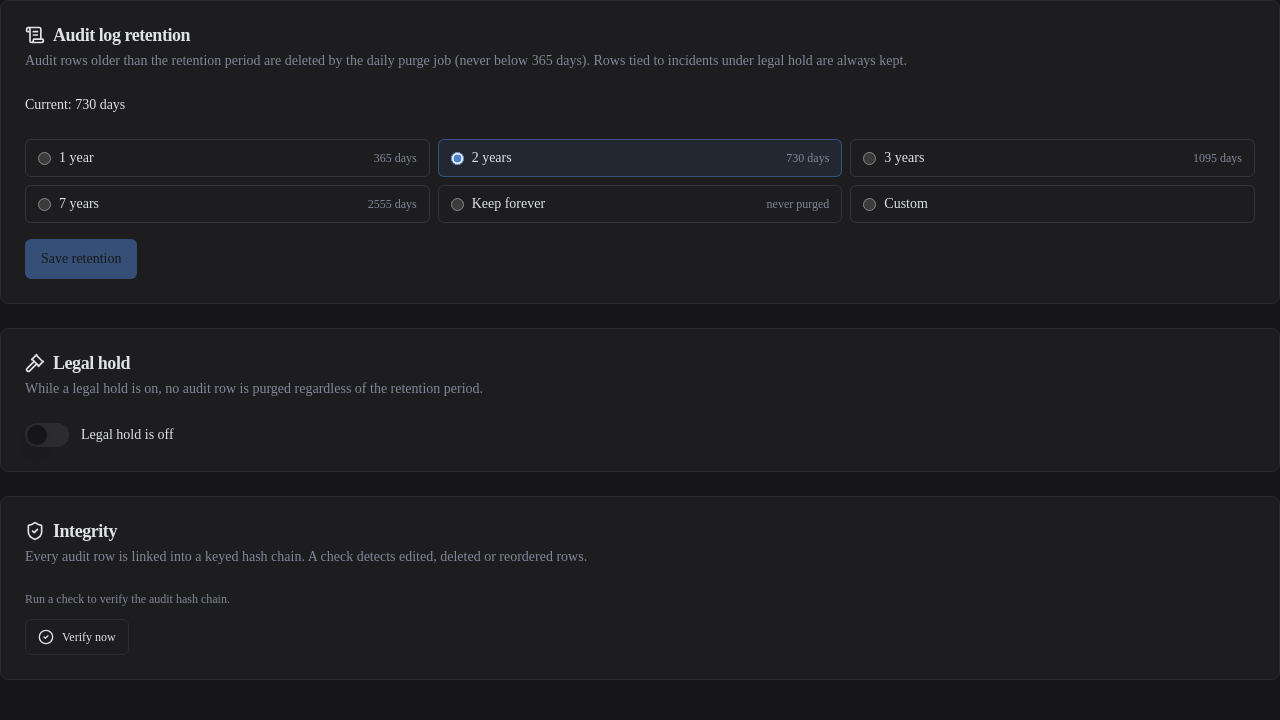
Scenario: AuditRetentionTab: retention › shortening shows the would_purge count and resends with confirm after the typed confirmation
This screenshot has width=1280, height=720.
Expected: the heading "Audit log retention" is shown, [25,25,190,45]
Expected: the text with test id "current-retention" reads "730 days", [75,97,125,112]
Click the radio button labelled "1 year 365 days" at coordinates (44, 158), box [38,152,51,164]
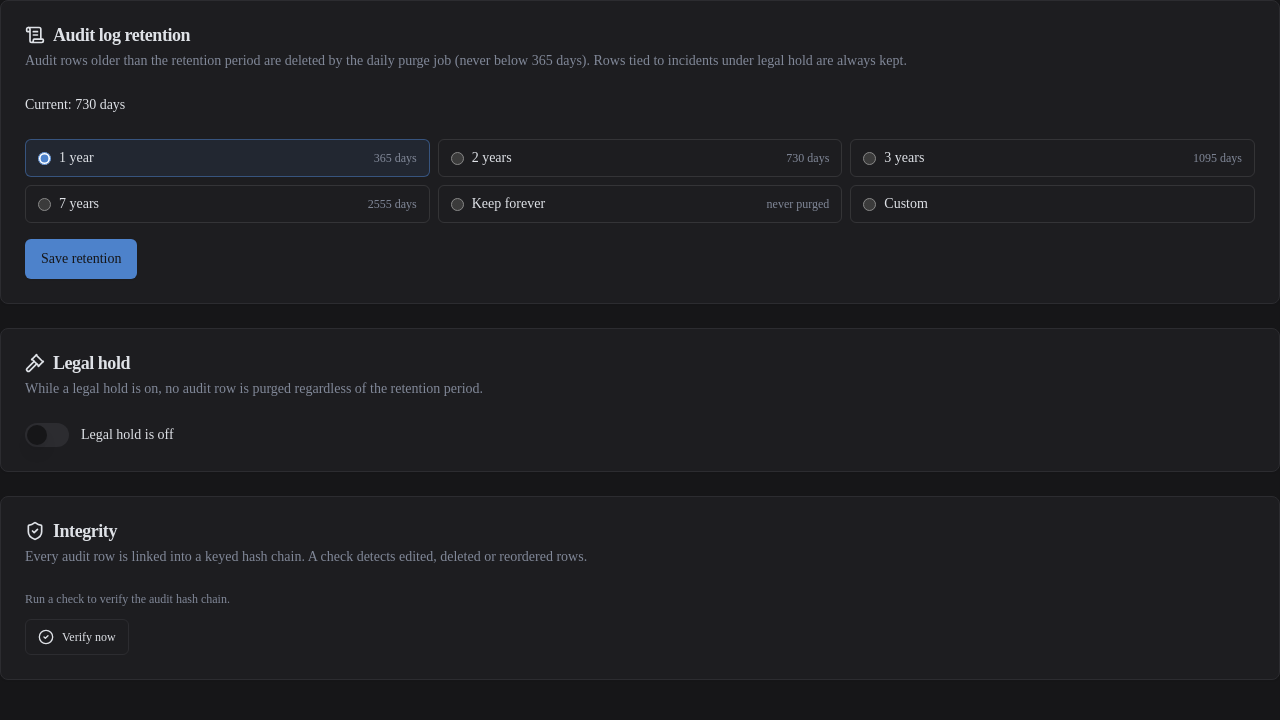
Click the button "Save retention" at coordinates (81, 259), box [25,239,138,279]
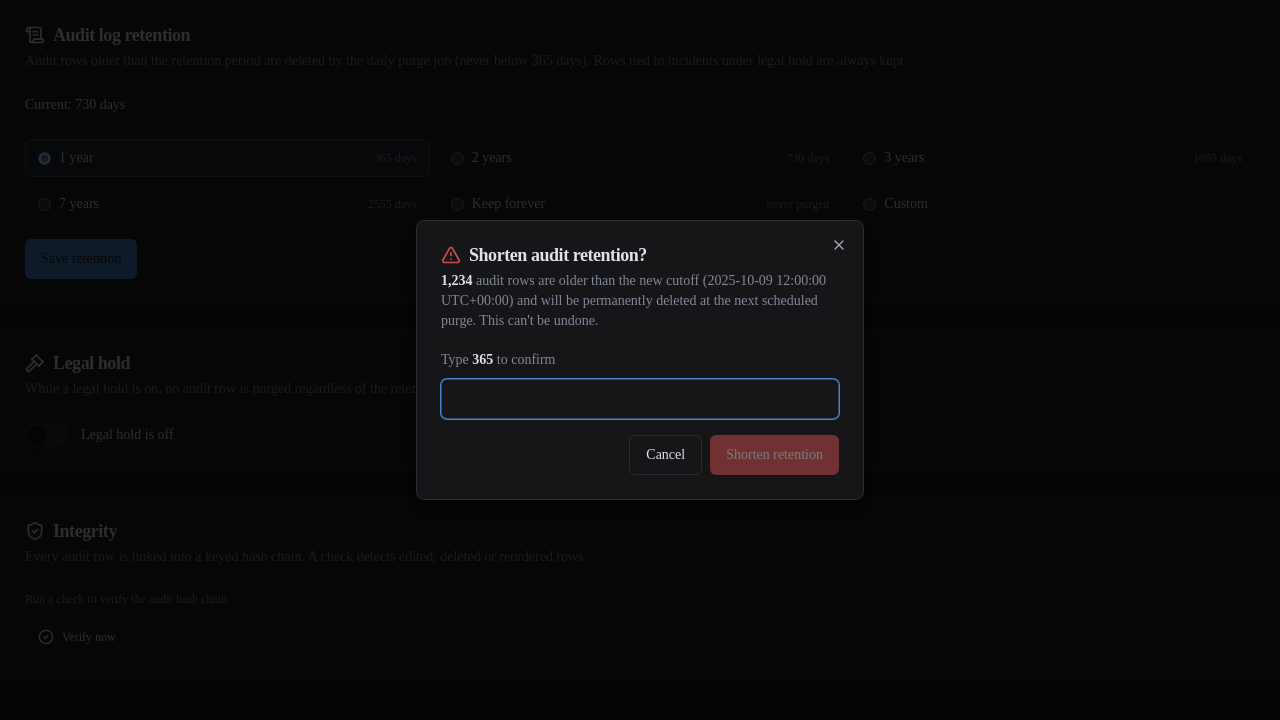
Now the heading "Shorten audit retention?" is shown, box [441,245,647,265]
Now the element with test id "would-purge" shows "1,234 audit rows are older than the new cutoff", box [441,273,826,328]
Now the button "Shorten retention" is disabled, box [710,435,839,475]
Type "36" into the field at coordinates (640, 399), box [441,379,839,419]
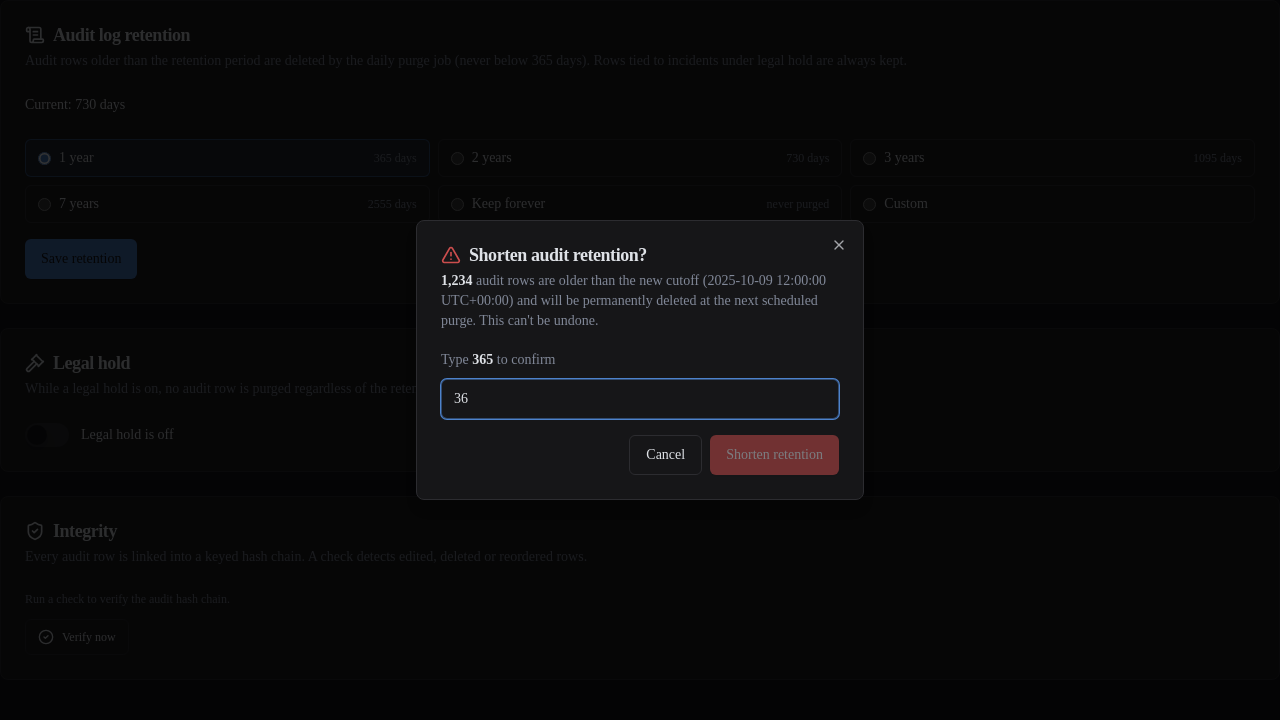
Now the button "Shorten retention" is disabled, box [710,435,839,475]
Replace the text in the field with "365" at coordinates (640, 399), box [441,379,839,419]
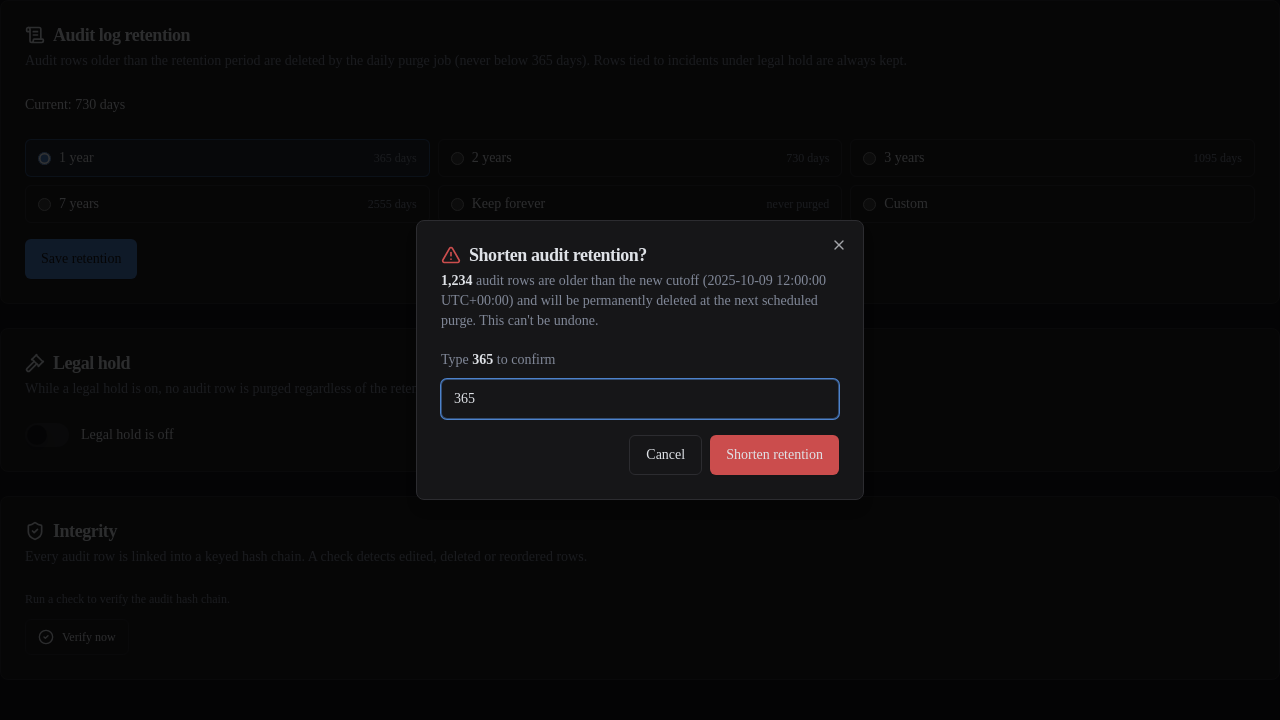
Now the button "Shorten retention" is enabled
Click the button "Shorten retention" at coordinates (775, 455), box [710,435,839,475]
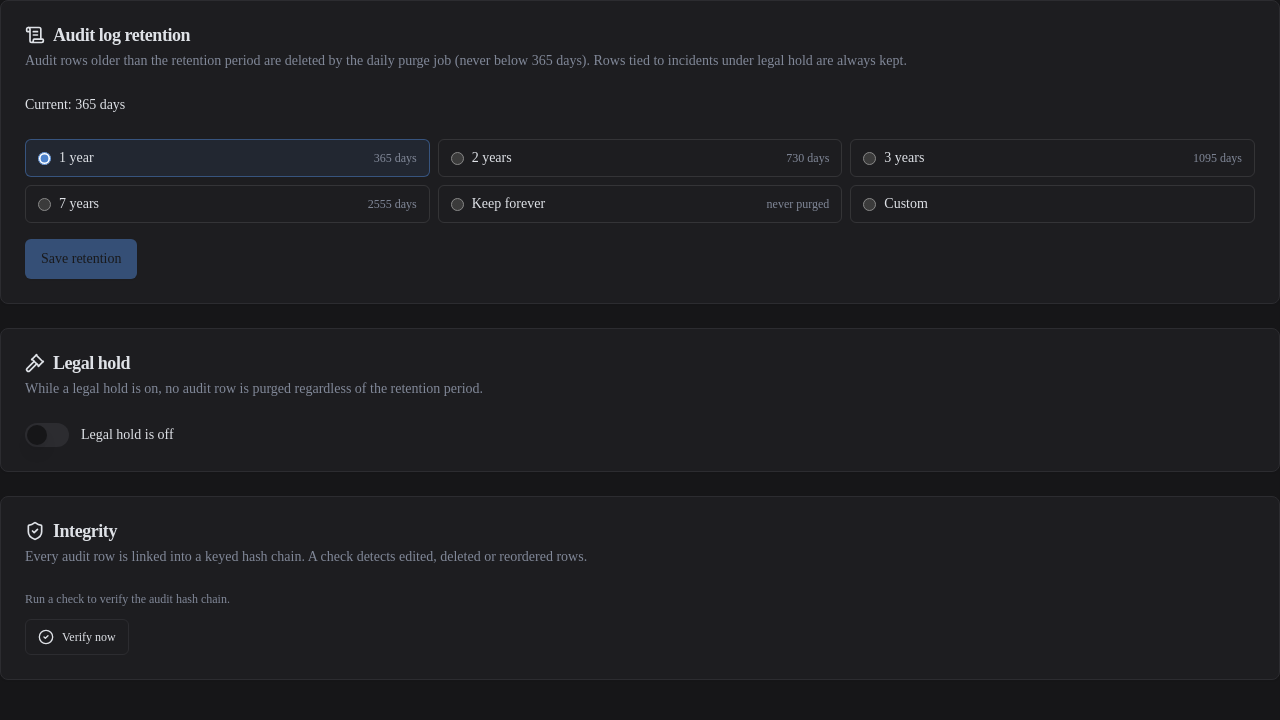
Now the text with test id "current-retention" reads "365 days", box [75,97,125,112]
